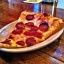pepperoni: (14, 21, 48, 39), (26, 35, 36, 47), (26, 13, 36, 21)
pizza: (1, 11, 63, 51)
